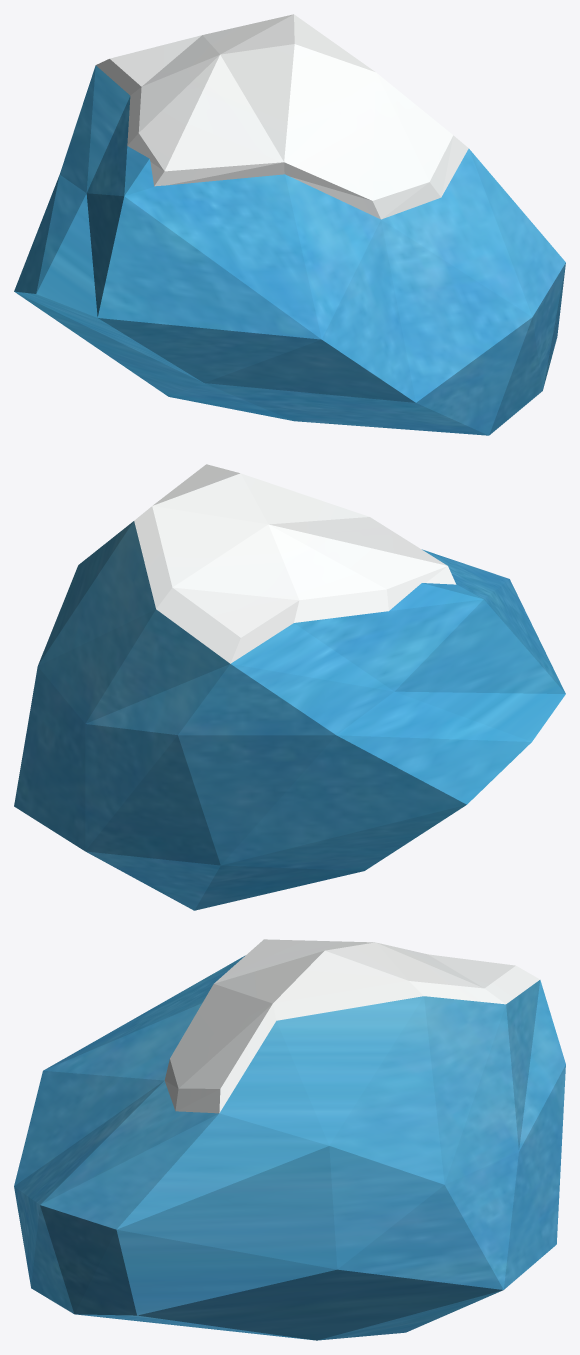
File: HX-Bingshitou2.FBX
3 renders of one model, top to bottom at view 1: azimuth 30°, elevation 25°; view 2: azimuth 150°, elevation 25°; view 3: azimuth 270°, elevation 25°, orthographic. The views are drawn at different scales.
Parts seen in each view (by area): view 1: shitou004, xue004; view 2: shitou004, xue004; view 3: shitou004, xue004.
Boxes of the visible parts, <box> form: shitou004: <box>14,65,565,435</box>; xue004: <box>96,14,468,219</box>; shitou004: <box>14,521,565,910</box>; xue004: <box>134,464,456,663</box>; shitou004: <box>14,955,565,1340</box>; xue004: <box>164,939,539,1113</box>.
Bounding box in the file's own units: 579 × 448 × 617.
